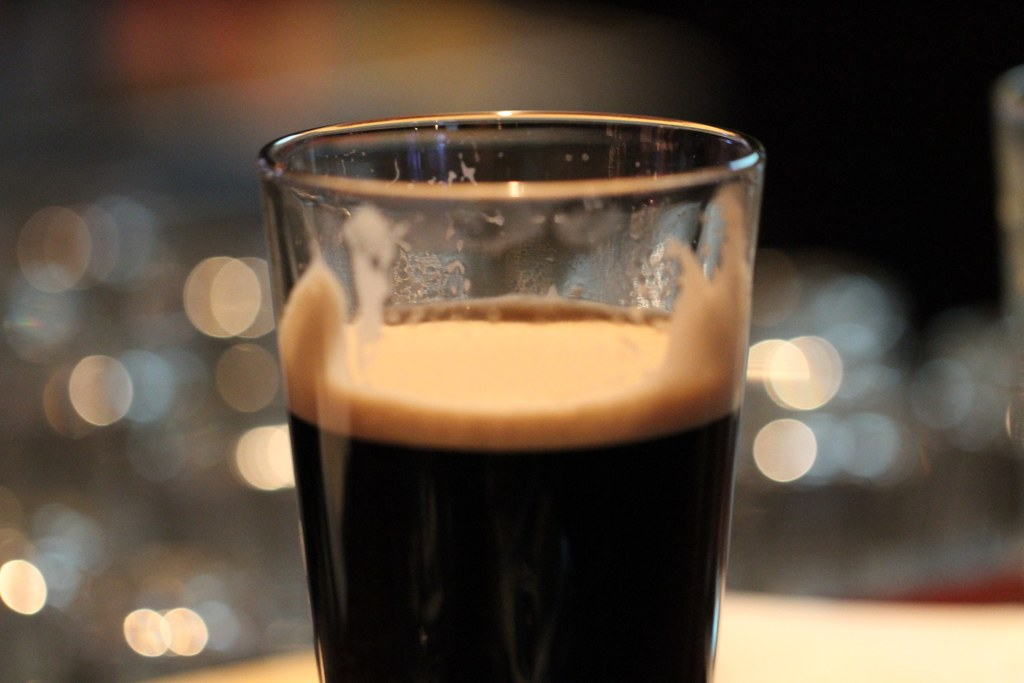Beer: (235, 86, 725, 682)
